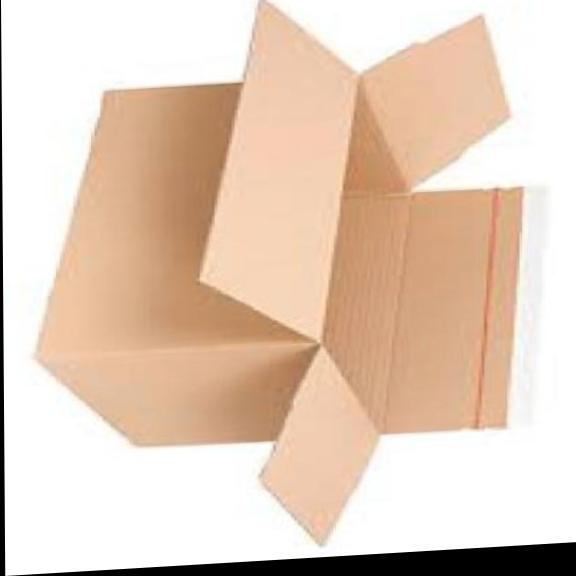Kertas: (39, 2, 521, 541)
